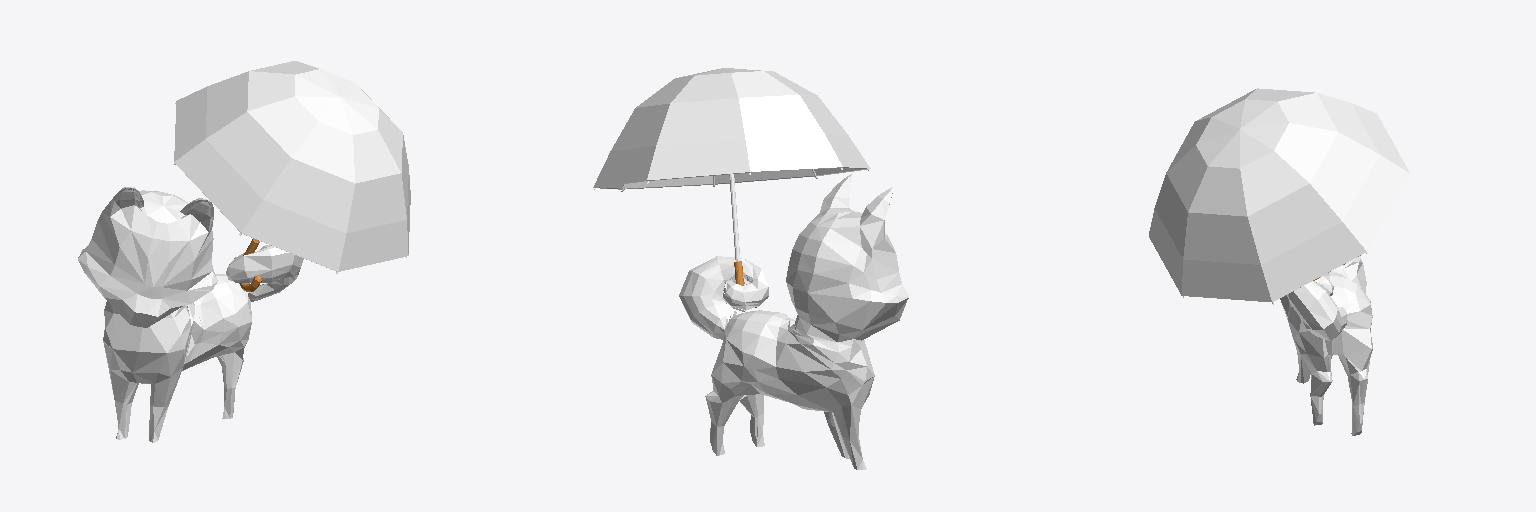
The picture shows the model from 3 angles: view 1: azimuth 30°, elevation 25°; view 2: azimuth 150°, elevation 25°; view 3: azimuth 270°, elevation 25°; orthographic projection.
Visible parts, largest first — view 1: Regenschirm:pTorus6, newRigging:BodzL1; view 2: newRigging:BodzL1, Regenschirm:pTorus6; view 3: Regenschirm:pTorus6, newRigging:BodzL1.
Boxes of the visible parts, x1,y1,x2,y2 form: Regenschirm:pTorus6: [173, 61, 410, 291]; newRigging:BodzL1: [78, 187, 303, 442]; newRigging:BodzL1: [679, 174, 908, 469]; Regenschirm:pTorus6: [593, 68, 870, 307]; Regenschirm:pTorus6: [1149, 88, 1410, 304]; newRigging:BodzL1: [1280, 255, 1372, 435].
Size of the model in its own units: 9.45 by 10.34 by 7.13.
Materials: 4 (1 with a texture image).